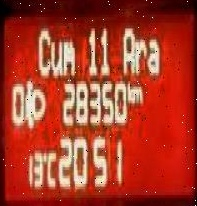0: (71, 134, 86, 187), (10, 78, 24, 125), (113, 78, 126, 125)
1: (97, 20, 110, 75), (84, 22, 97, 75), (113, 131, 122, 184), (26, 147, 31, 189)
2: (56, 131, 71, 186), (61, 78, 73, 122)
3: (87, 78, 100, 125), (31, 147, 41, 189)
5: (91, 131, 106, 186), (101, 78, 112, 125)
8: (74, 78, 87, 122)
X: (36, 22, 50, 75), (121, 23, 133, 73), (48, 36, 62, 75), (133, 34, 146, 73), (146, 33, 158, 75), (62, 36, 73, 75), (46, 145, 56, 186), (132, 81, 141, 103), (126, 78, 132, 103)
